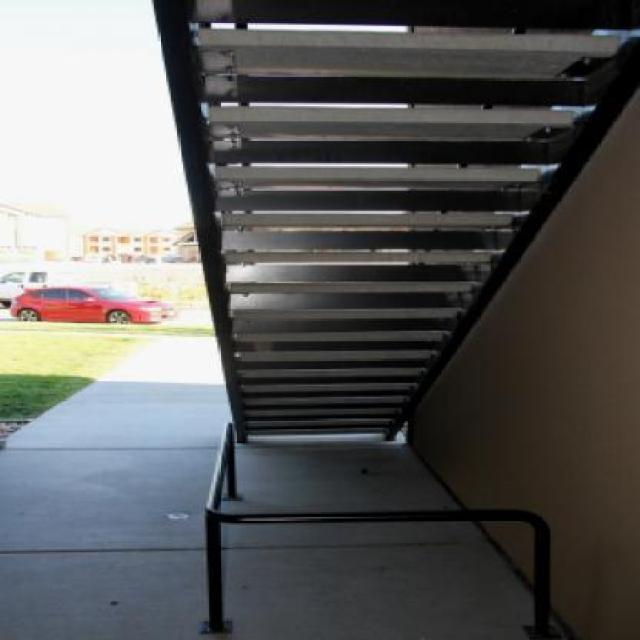stair: (100, 0, 588, 525)
